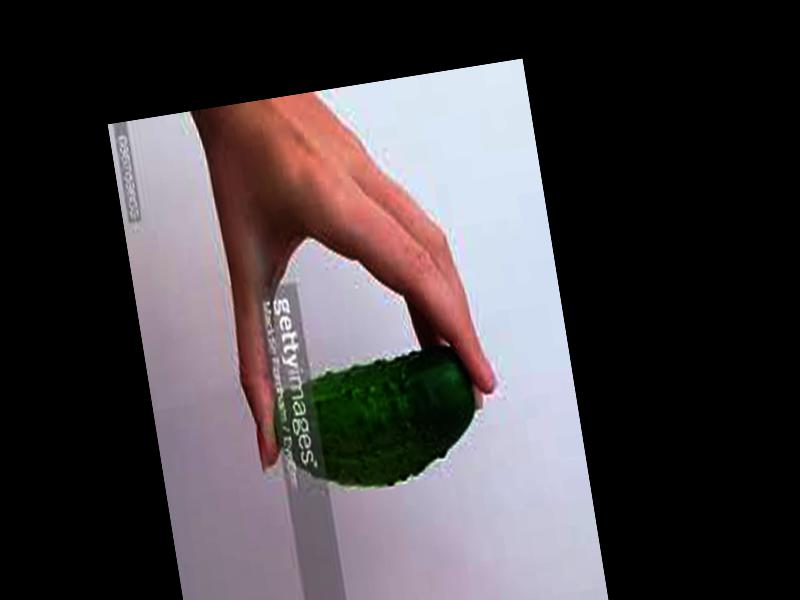Cucumber: (265, 344, 485, 502)
